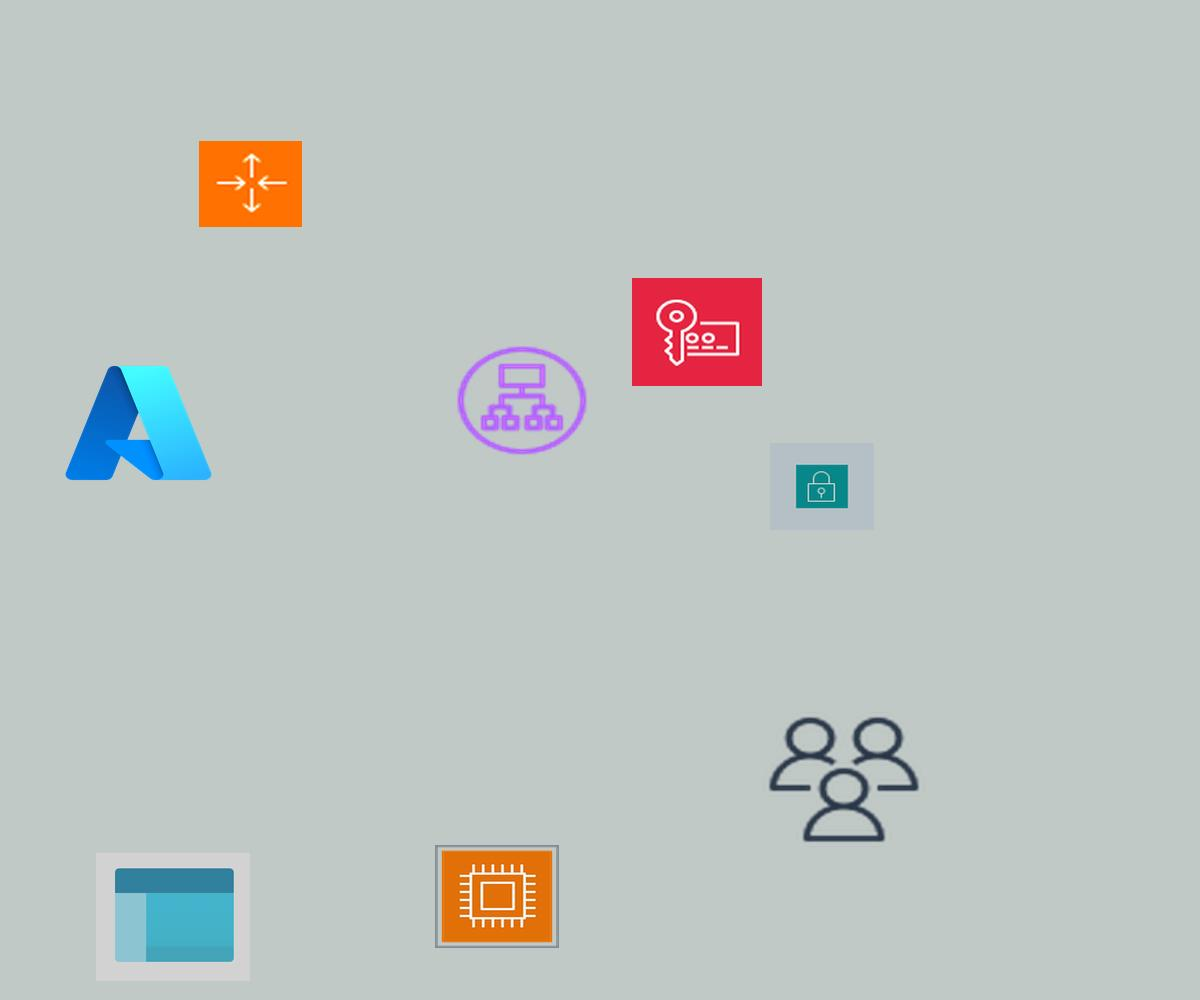AWS-Category_Compute: (435, 845, 559, 948)
AWS-Key-Management-Service: (632, 278, 762, 386)
AWS-Private-subnet: (770, 443, 874, 530)
AWS-Res_Elastic-Load-Balancing_Application-Load-Balancer: (452, 342, 592, 459)
AWS-Res_Users: (763, 712, 925, 847)
AWS-Scaling-group: (199, 141, 302, 227)
Azure_management-portal: (96, 853, 250, 981)
Azure_services: (59, 357, 218, 489)
